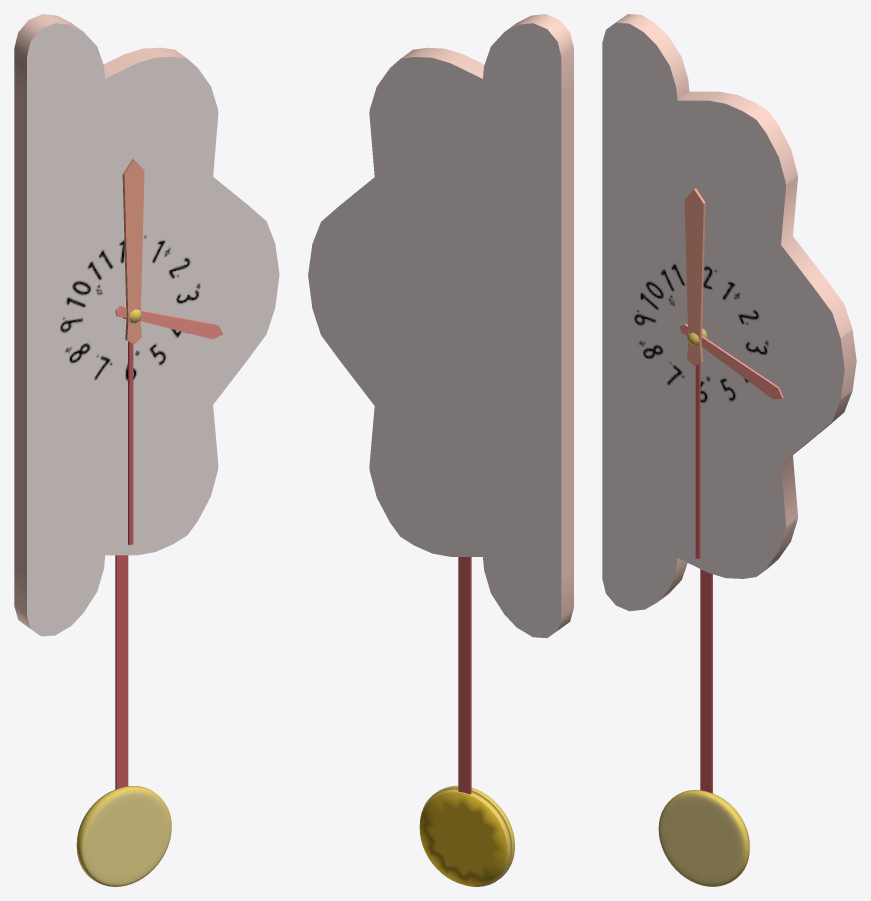
File: 3d_Cloud_Clock.fbx
The picture shows the model from 3 angles, left to right: view 1: azimuth 30°, elevation 25°; view 2: azimuth 150°, elevation 25°; view 3: azimuth 330°, elevation 25°; orthographic projection. The views are drawn at different scales.
Visible parts, largest first — view 1: 3d_Cloud_Lock, 3d_Coucou, 3d_big_needle, 3d_small_needle, 3d_long_needle; view 2: 3d_Cloud_Lock, 3d_Coucou; view 3: 3d_Cloud_Lock, 3d_Coucou, 3d_big_needle, 3d_small_needle, 3d_long_needle.
Part boxes in pixels (x1,y1,x2,y2): 3d_Cloud_Lock: (14, 14, 279, 636); 3d_Coucou: (76, 555, 171, 886); 3d_big_needle: (122, 159, 144, 344); 3d_small_needle: (115, 305, 222, 339); 3d_long_needle: (128, 341, 133, 545); 3d_Cloud_Lock: (308, 14, 573, 637); 3d_Coucou: (419, 557, 514, 886); 3d_Cloud_Lock: (602, 14, 856, 611); 3d_Coucou: (658, 569, 749, 886); 3d_big_needle: (684, 188, 705, 365); 3d_small_needle: (680, 323, 783, 399); 3d_long_needle: (695, 363, 700, 558).
Size of the model in its own units: 0.4217 by 1.41 by 0.0599.
